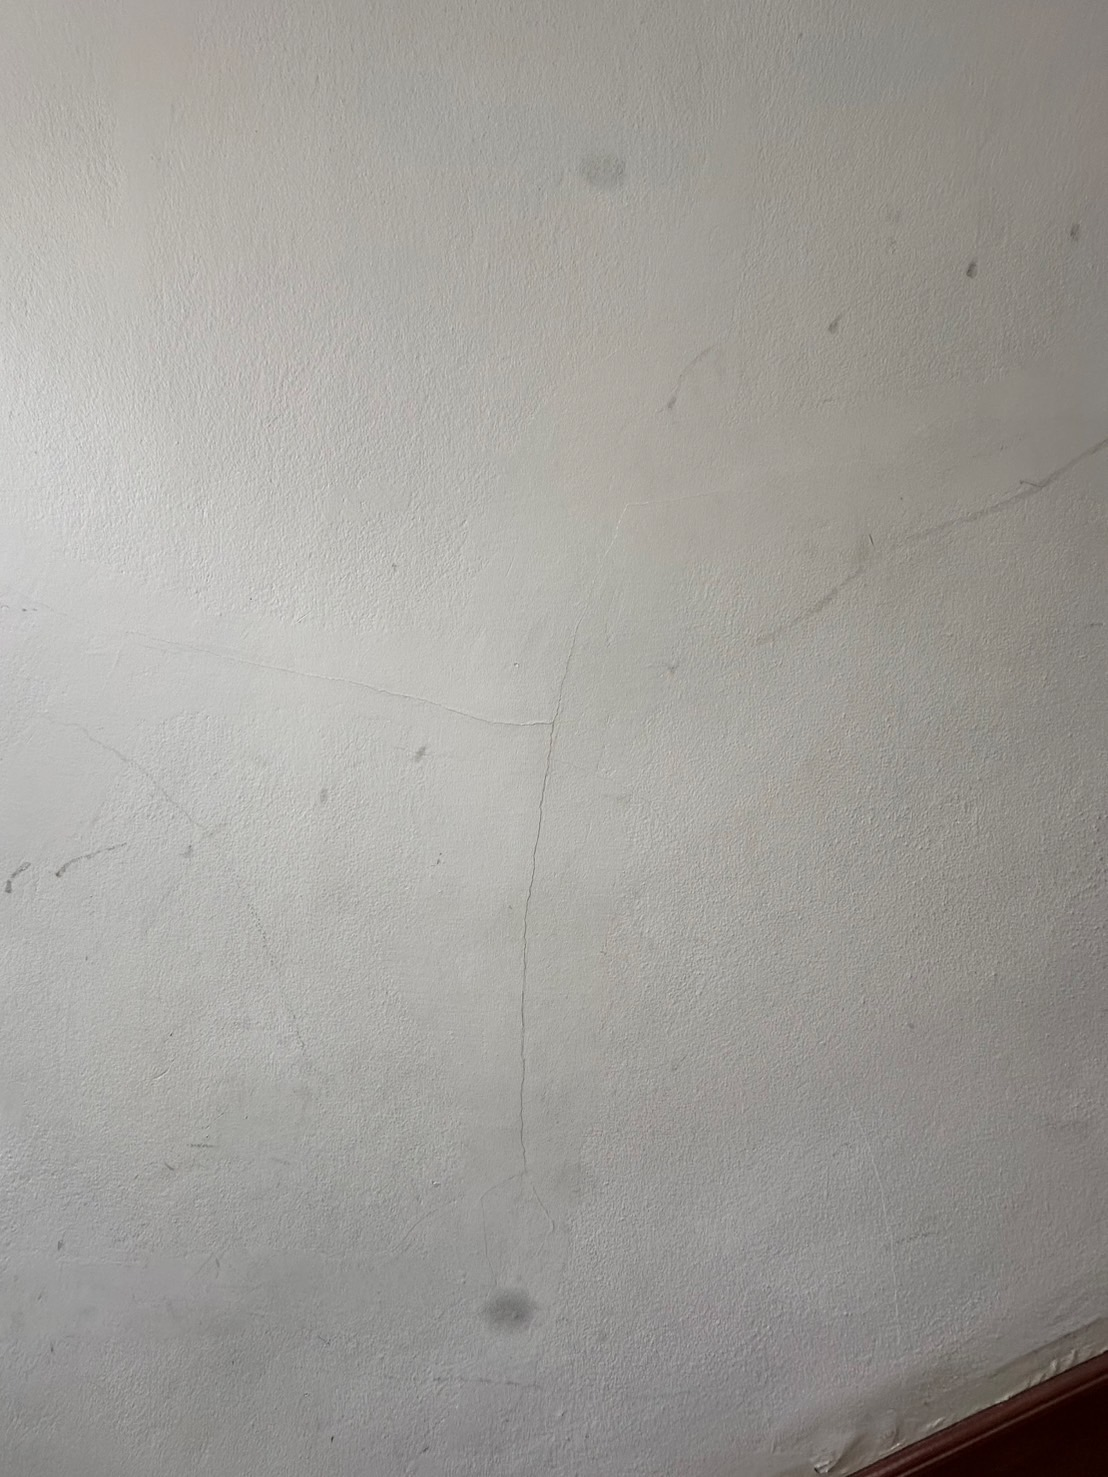Low: (14, 571, 757, 1223)
